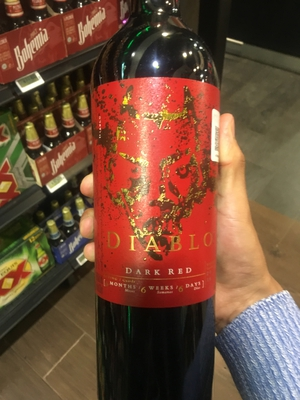diablo dark red: (80, 16, 237, 400)
